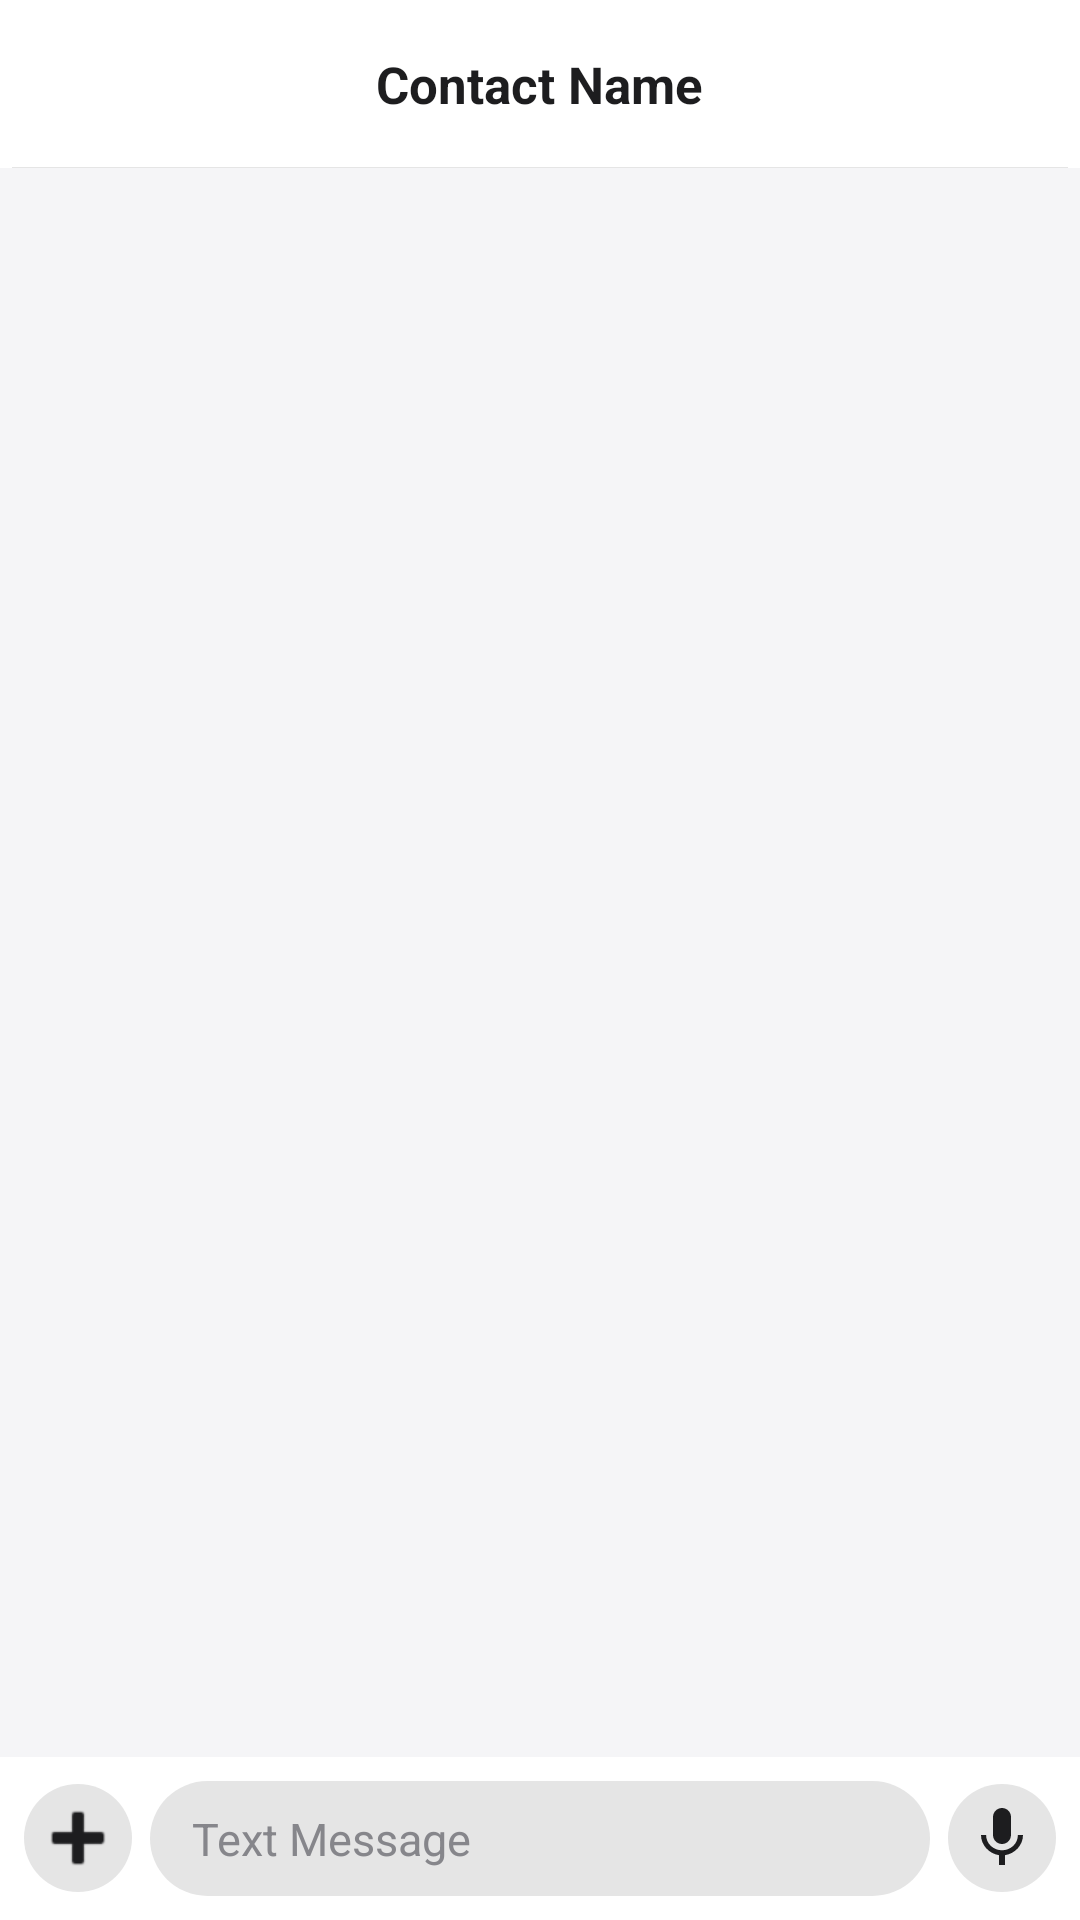

Named icons in this screenshot (1080*1920) and their bounding boxes, (x1, y1, x2, y2):
add: (24, 1784, 132, 1892)
Dictate: (948, 1784, 1056, 1892)
